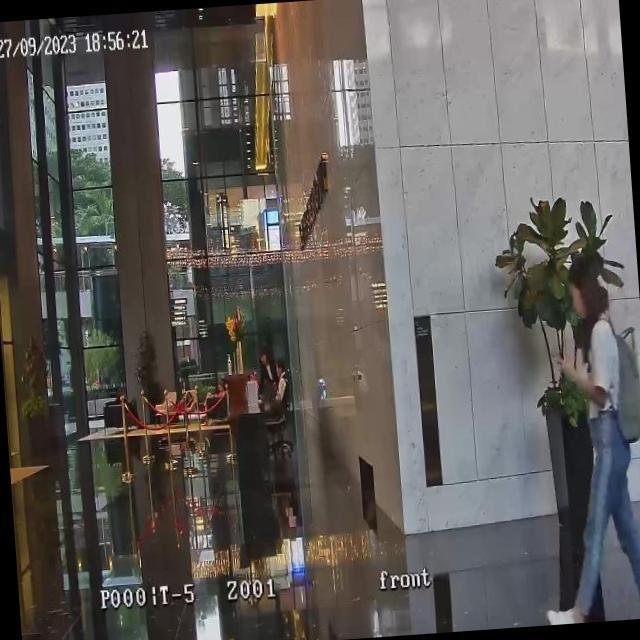person: (522, 253, 640, 624), (198, 378, 228, 427), (253, 344, 280, 398), (114, 384, 145, 431), (272, 356, 288, 406)
